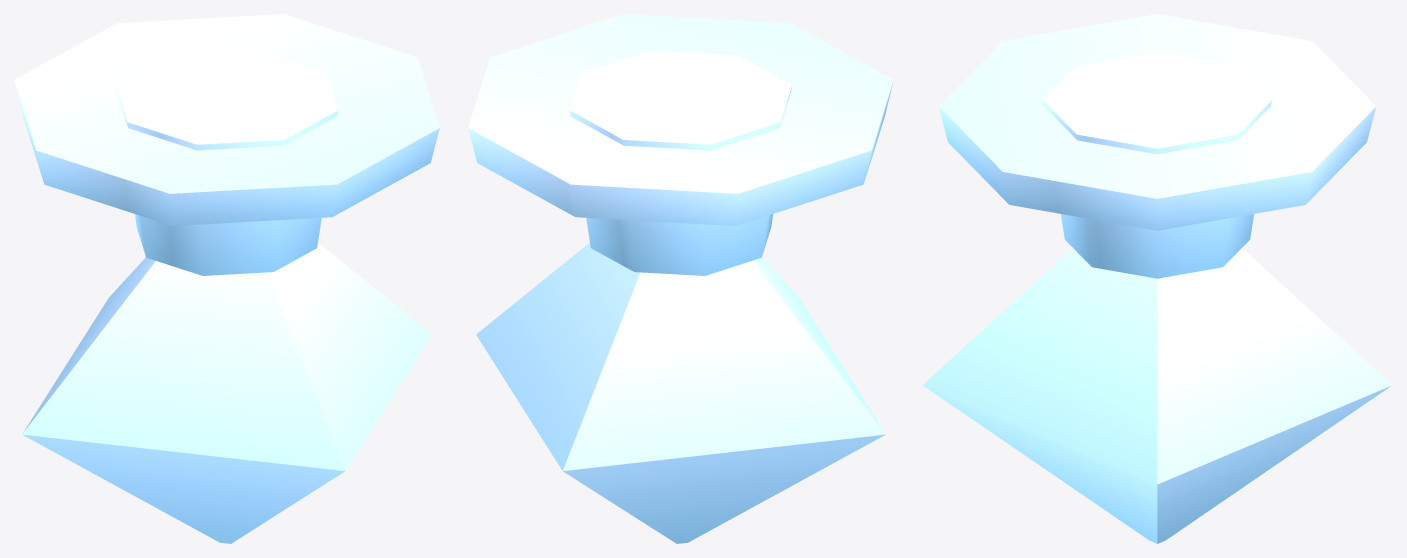
The model's file is steel_pommel_107.glb.
3 renders of one model, left to right at view 1: azimuth 30°, elevation 25°; view 2: azimuth 150°, elevation 25°; view 3: azimuth 270°, elevation 25°, orthographic.
Parts seen in each view (by area): view 1: steel_pommel_107; view 2: steel_pommel_107; view 3: steel_pommel_107.
Boxes of the visible parts, <box> form: steel_pommel_107: <box>14,14,439,543</box>; steel_pommel_107: <box>468,14,893,543</box>; steel_pommel_107: <box>922,14,1392,543</box>.
Bounding box in the file's own units: 1.88 × 1.95 × 1.88.
Materials: 1 (1 with a texture image).
